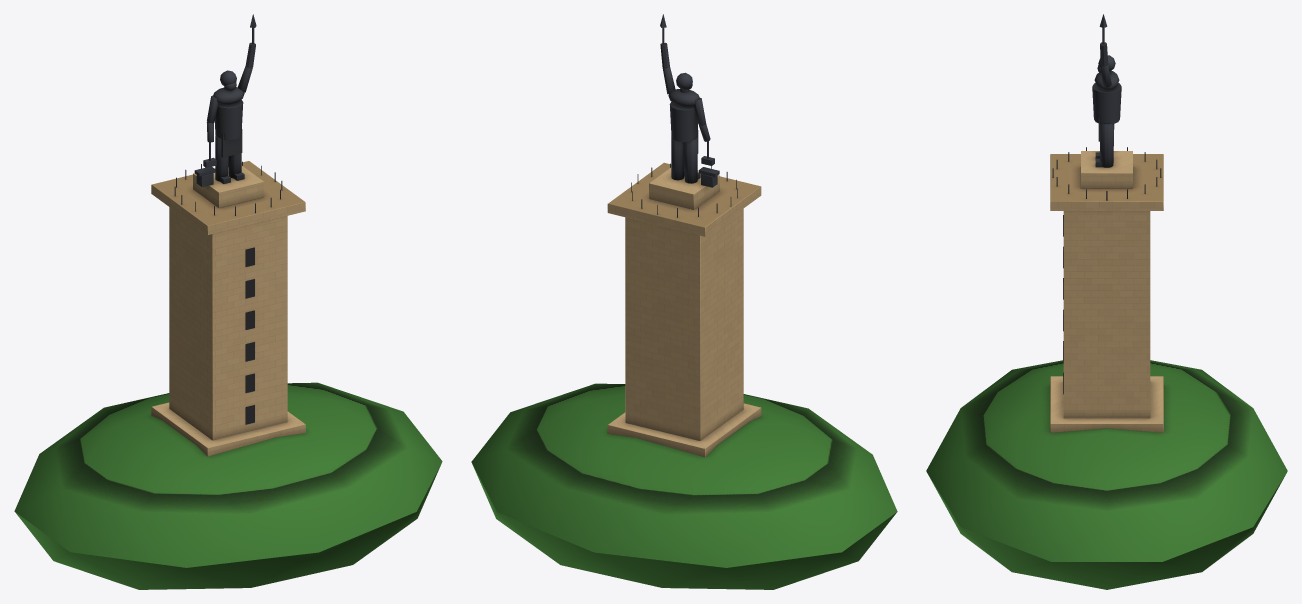
The model's file is vulcano.glb.
3 views of the same model, side by side, from view 1: azimuth 30°, elevation 25°; view 2: azimuth 150°, elevation 25°; view 3: azimuth 270°, elevation 25° (orthographic).
Visible parts, largest first — view 1: vulcano; view 2: vulcano; view 3: vulcano.
Boxes of the visible parts, <box> form: vulcano: <box>14,14,442,589</box>; vulcano: <box>471,14,897,589</box>; vulcano: <box>926,14,1287,589</box>.
Size of the model in its own units: 49.46 by 68.5 by 41.6.
Materials: 1 (1 with a texture image).
